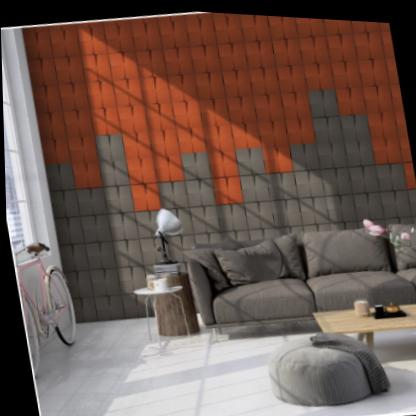Wall Panel: (3, 0, 416, 349)
